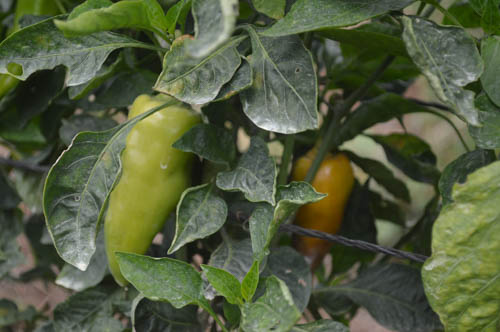ChiliPepper: (100, 96, 192, 295), (288, 158, 355, 254)
